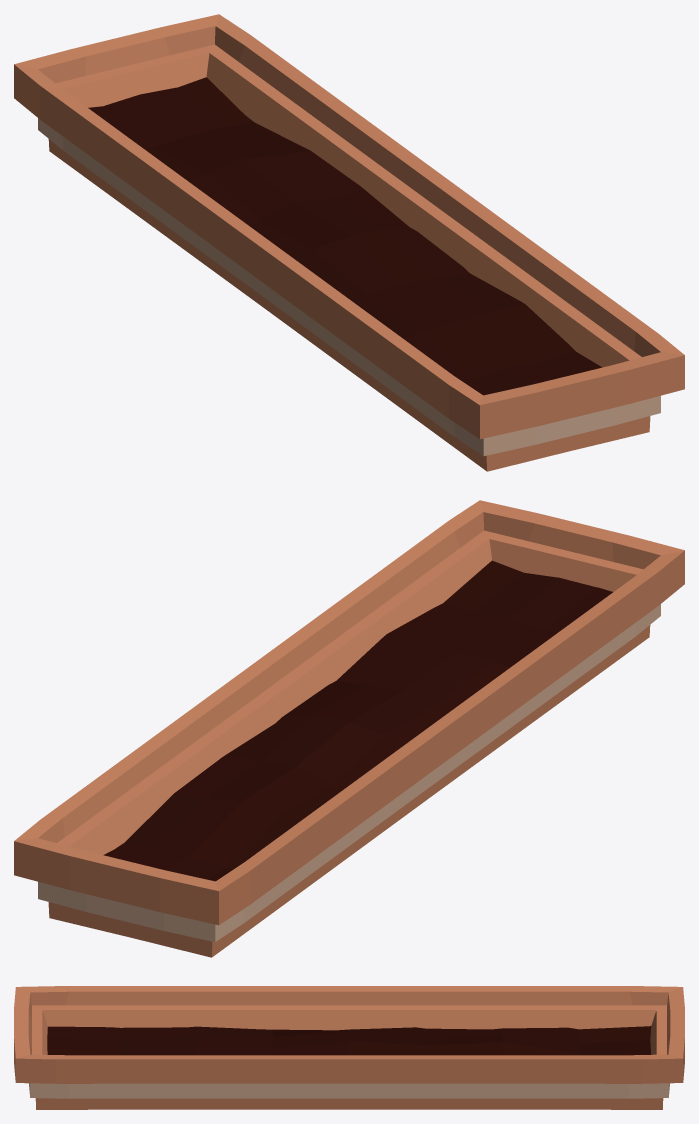
File: dirt_row_desert.fbx
The picture shows the model from 3 angles, top to bottom: view 1: azimuth 30°, elevation 25°; view 2: azimuth 150°, elevation 25°; view 3: azimuth 270°, elevation 25°; orthographic projection. The views are drawn at different scales.
Visible parts, largest first — view 1: DirtRowDesert; view 2: DirtRowDesert; view 3: DirtRowDesert.
Boxes of the visible parts, left/top/right/bottom form: DirtRowDesert: left=14, top=14, right=684, bottom=471; DirtRowDesert: left=14, top=500, right=684, bottom=957; DirtRowDesert: left=14, top=986, right=684, bottom=1109.
Size of the model in its own units: 269 by 100 by 1038.
